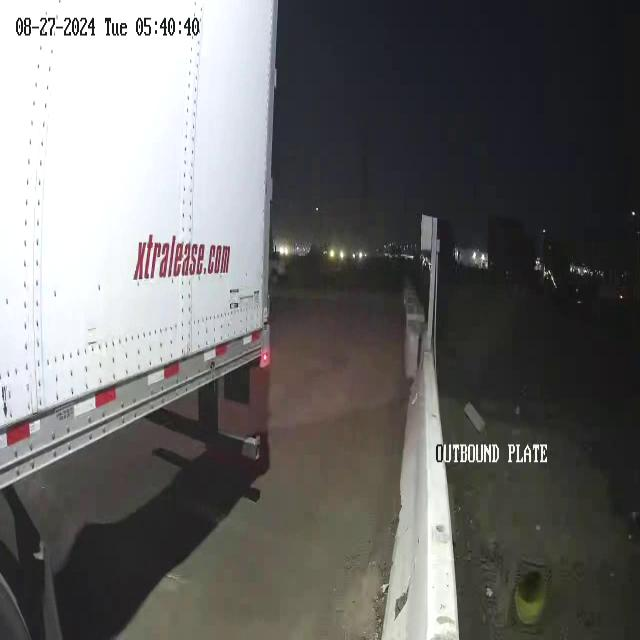CONTAINER: (1, 1, 279, 488)
